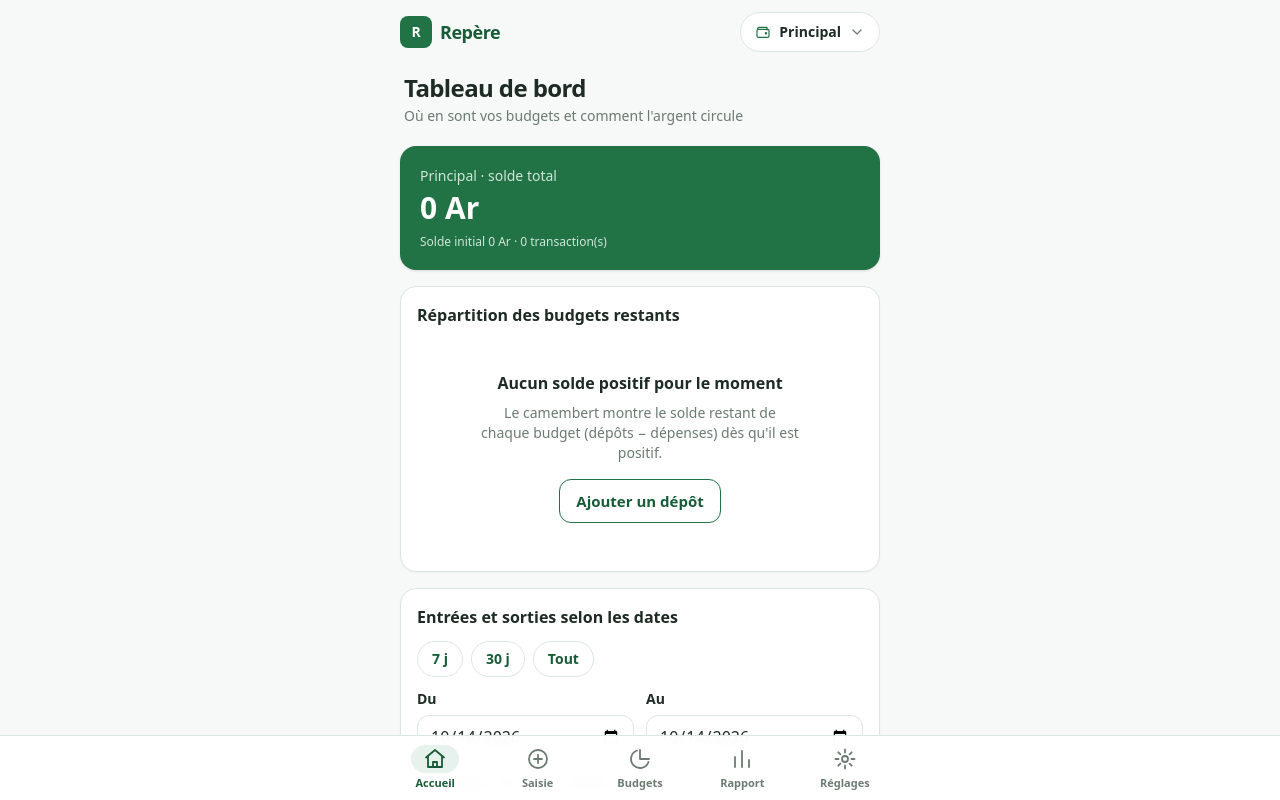
réglages : portefeuilles et données › importer un JSON : aperçu, puis remplacer les données
The image size is (1280, 800).
Click the button "Réglages" at (845, 768), box x1=794 y1=736 x2=896 y2=799
(page scrolled)
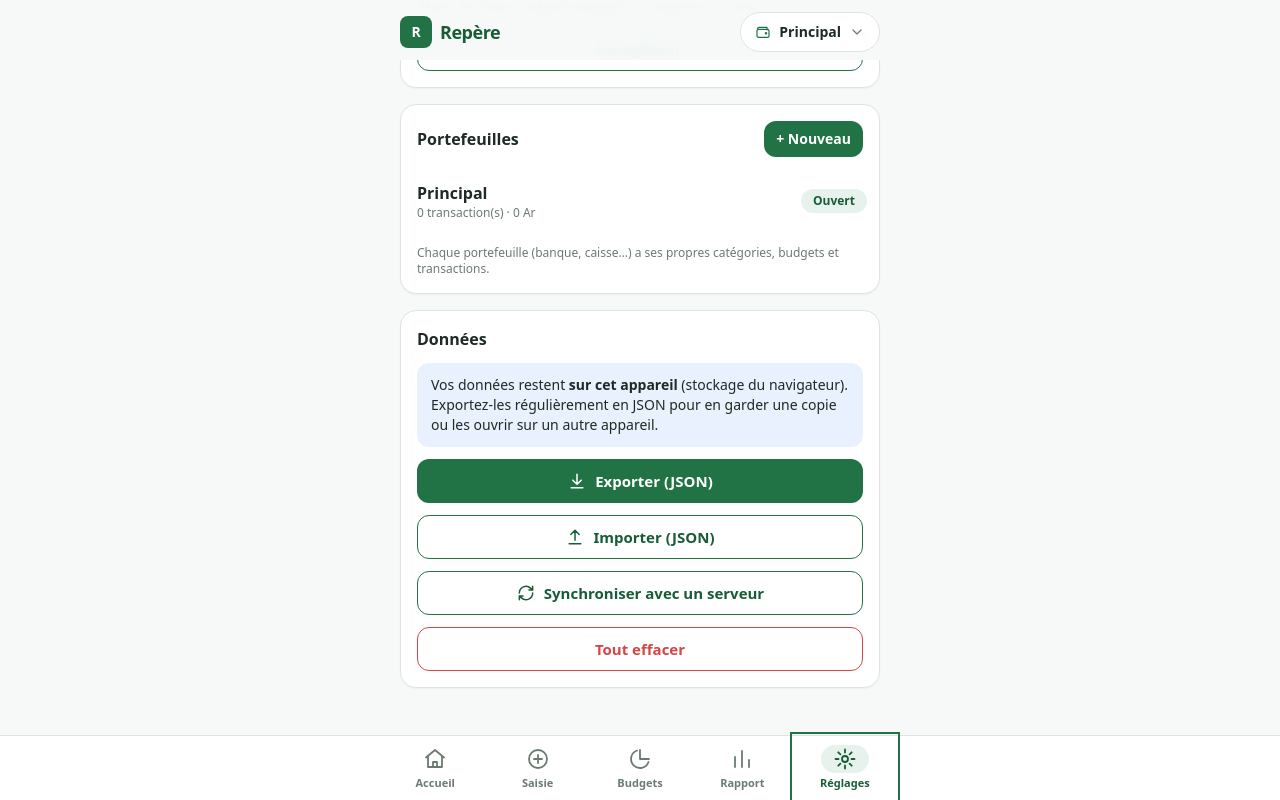
Click the button "Importer (JSON)" at (640, 537), box x1=417 y1=515 x2=863 y2=559
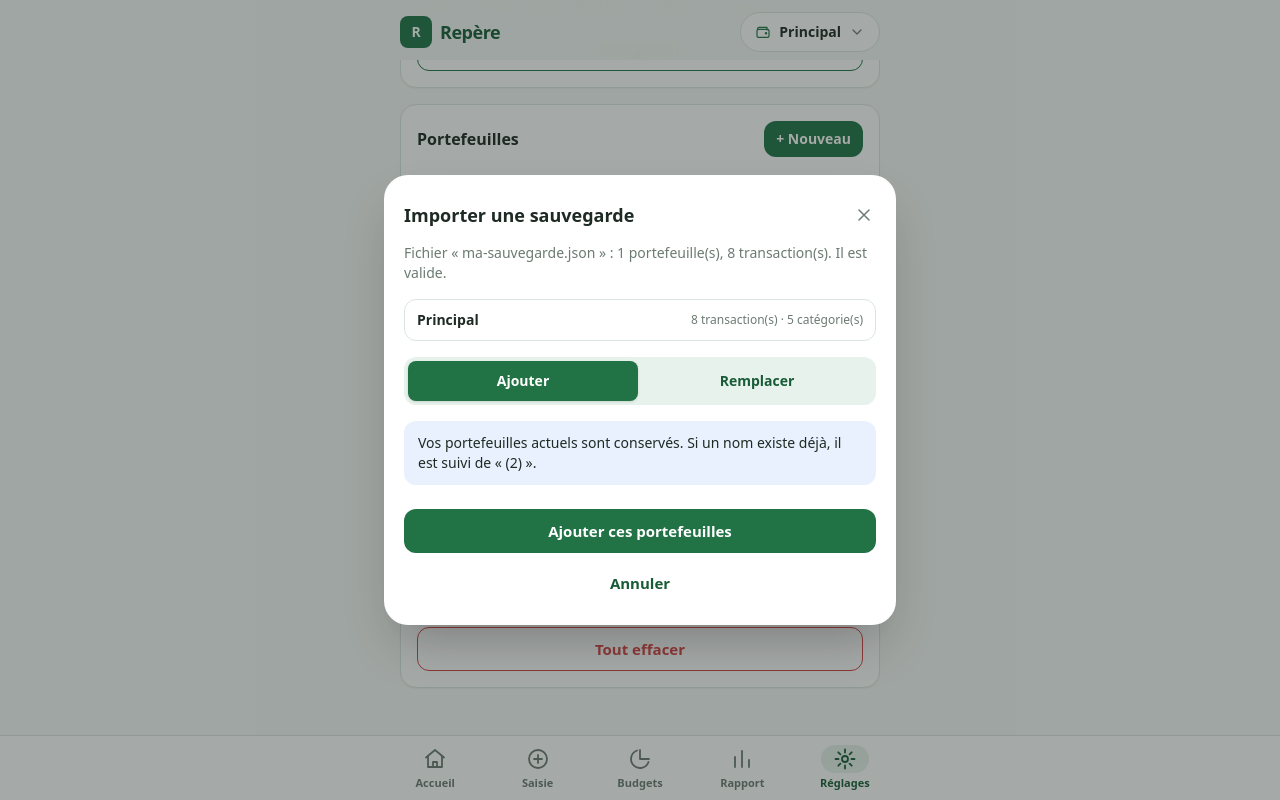
Click the radio button labelled "Remplacer" at (757, 381), box x1=642 y1=361 x2=872 y2=401
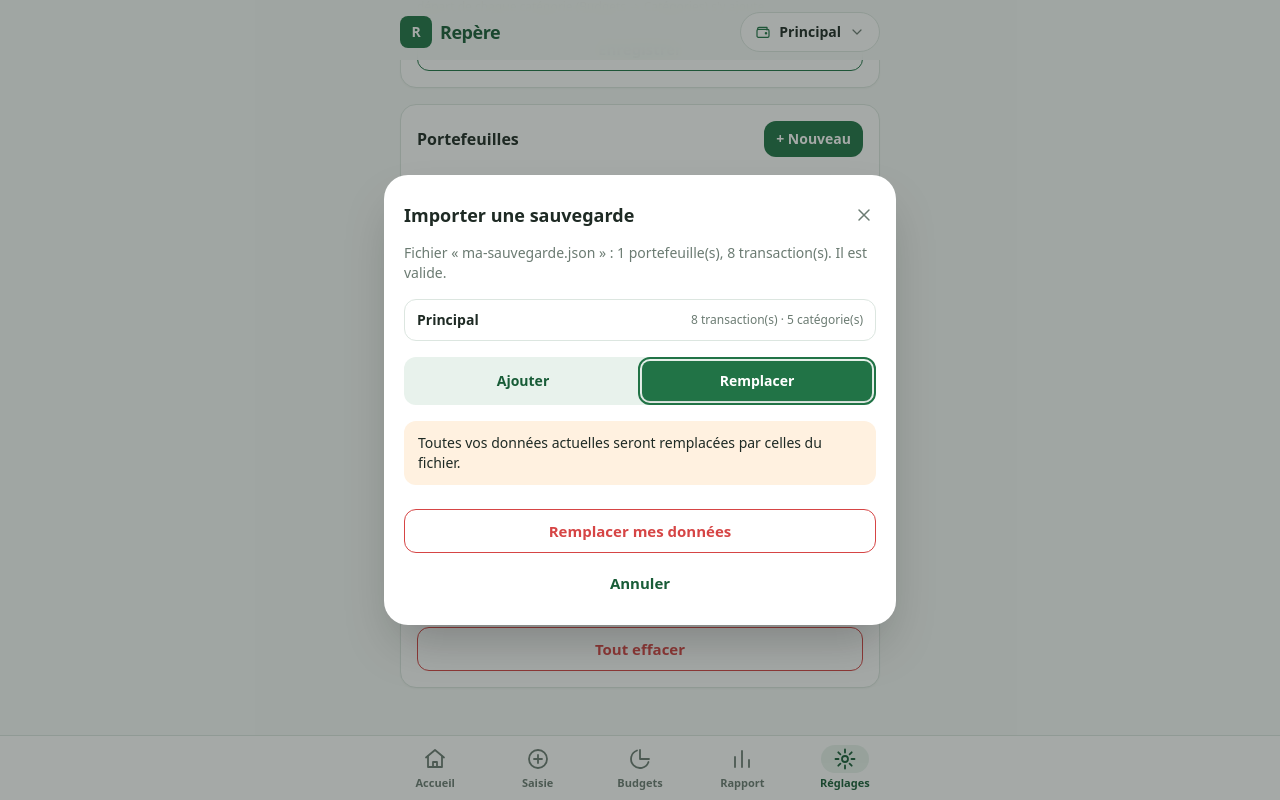
Click the button "Remplacer mes données" at (640, 531), box x1=404 y1=509 x2=876 y2=553
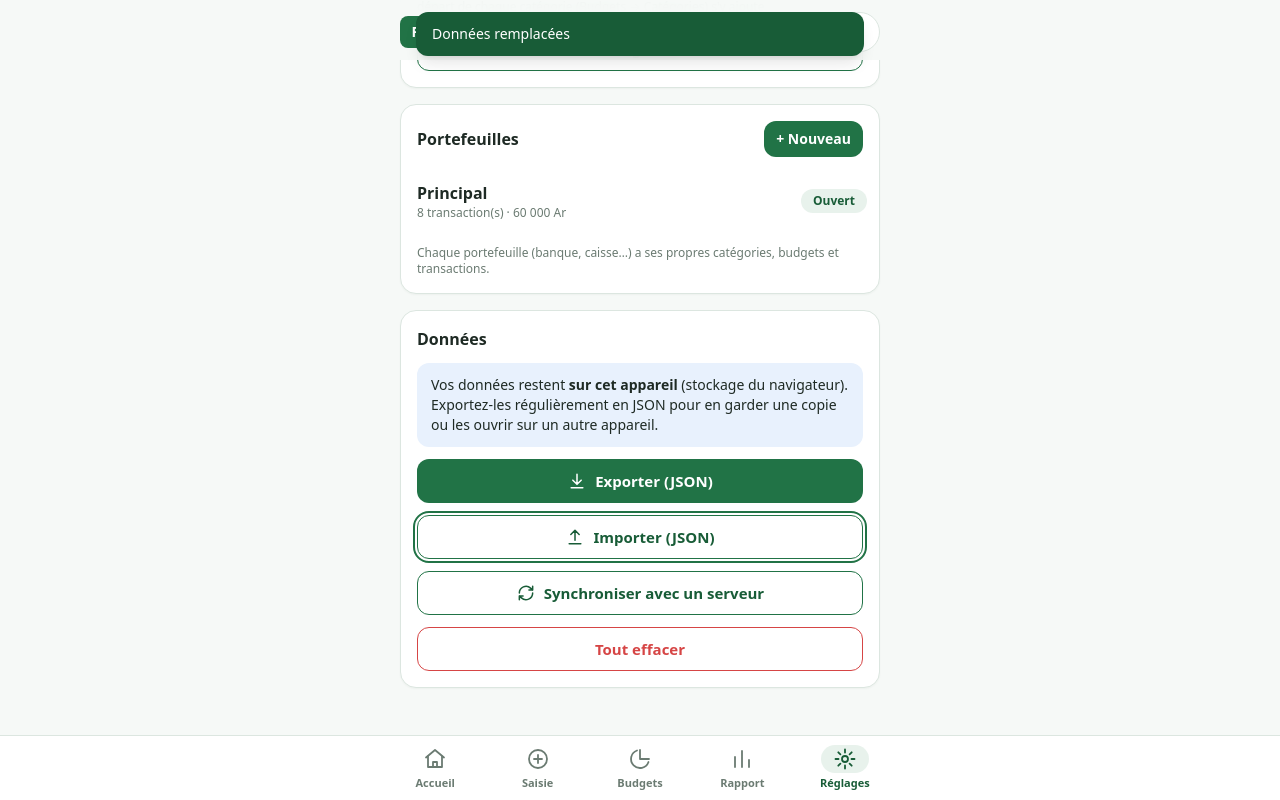
Result: the text "Données remplacées" is shown at x1=416 y1=12 x2=864 y2=56
